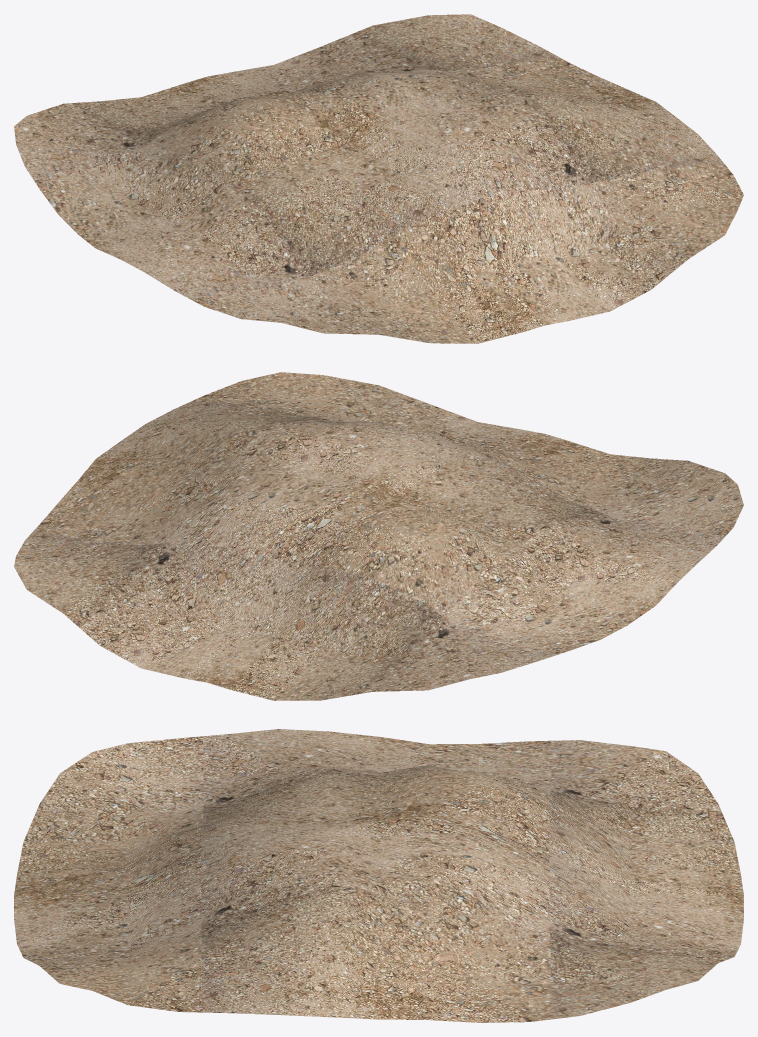
Rendered from Arena.fbx.
3 views of the same model, one above another, from view 1: azimuth 30°, elevation 25°; view 2: azimuth 150°, elevation 25°; view 3: azimuth 270°, elevation 25° (orthographic). The views are drawn at different scales.
Parts seen in each view (by area): view 1: Plane; view 2: Plane; view 3: Plane.
Part boxes in pixels (x1,y1,x2,y2): Plane: (14, 14, 743, 343); Plane: (14, 372, 743, 700); Plane: (14, 729, 743, 1022).
Bounding box in the file's own units: 490 × 73.79 × 514.
1 material, 1 textured.
